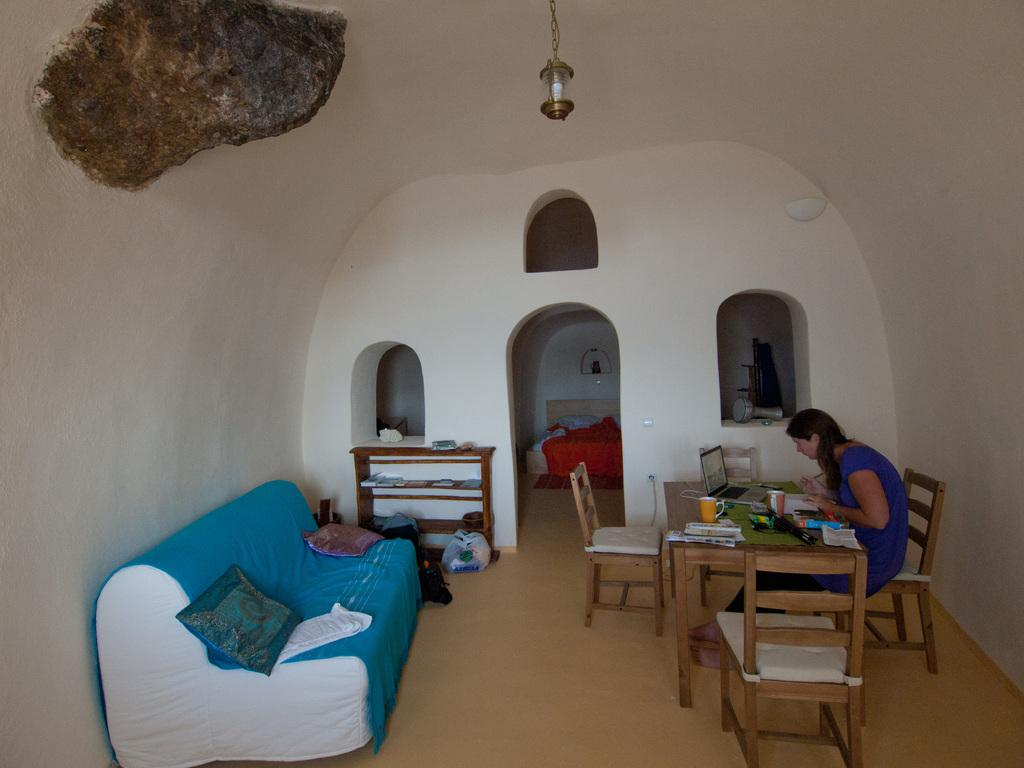Chair: (696, 524, 879, 758), (829, 456, 945, 671), (560, 458, 676, 636)
